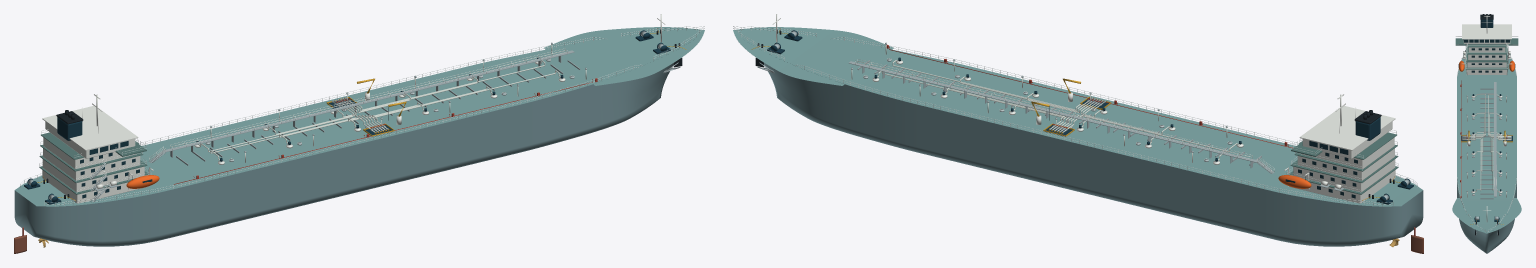
Rendered from module11_ship.glb.
3 views of the same model, side by side, from view 1: azimuth 30°, elevation 25°; view 2: azimuth 150°, elevation 25°; view 3: azimuth 270°, elevation 25° (orthographic). The views are drawn at different scales.
Visible parts, largest first — view 1: Continuous hull and deck, Original pipework railings and deck machinery, Forecastle tapered hull extension, Original rail region Aft, Original rail region Middle, Original rail region Forward, Original rail region Bow; view 2: Continuous hull and deck, Original pipework railings and deck machinery, Forecastle tapered hull extension, Original rail region Aft, Original rail region Middle, Original rail region Forward, Original rail region Bow; view 3: Continuous hull and deck, Original pipework railings and deck machinery, Forecastle tapered hull extension, Original rail region Aft, Original rail region Bow.
Part boxes in pixels (x1=…): Continuous hull and deck: x1=14, y1=30, x2=704, y2=246; Original pipework railings and deck machinery: x1=24, y1=14, x2=686, y2=204; Forecastle tapered hull extension: x1=544, y1=27, x2=704, y2=85; Original rail region Aft: x1=20, y1=123, x2=272, y2=206; Original rail region Middle: x1=221, y1=83, x2=435, y2=164; Original rail region Forward: x1=385, y1=46, x2=589, y2=122; Original rail region Bow: x1=544, y1=26, x2=704, y2=83; Continuous hull and deck: x1=733, y1=30, x2=1423, y2=246; Original pipework railings and deck machinery: x1=751, y1=14, x2=1413, y2=204; Forecastle tapered hull extension: x1=733, y1=27, x2=893, y2=85; Original rail region Aft: x1=1165, y1=123, x2=1417, y2=206; Original rail region Middle: x1=1002, y1=83, x2=1216, y2=164; Original rail region Forward: x1=848, y1=46, x2=1052, y2=122; Original rail region Bow: x1=733, y1=26, x2=893, y2=83; Continuous hull and deck: x1=1457, y1=58, x2=1516, y2=253; Original pipework railings and deck machinery: x1=1455, y1=14, x2=1518, y2=235; Forecastle tapered hull extension: x1=1452, y1=198, x2=1521, y2=233; Original rail region Aft: x1=1456, y1=36, x2=1517, y2=76; Original rail region Bow: x1=1460, y1=195, x2=1513, y2=232.
Size of what is drawn, in the model's own units: 203 by 39.39 by 30.71.
